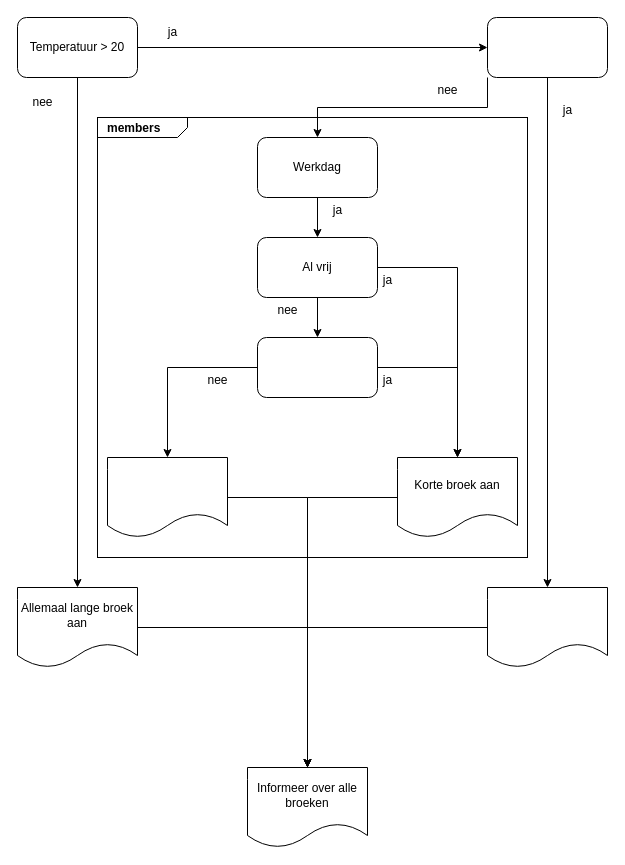
Image size: 625x865. Some labels were removed from this diagram. Each missing label, with the centre of its shape:
"Allemaal korte broek aan" belongs at [547,627].
"Lange broek aan" belongs at [167,497].
"Temperatuur > 40" belongs at [547,47].
"Thuiswerken" belongs at [317,367].
